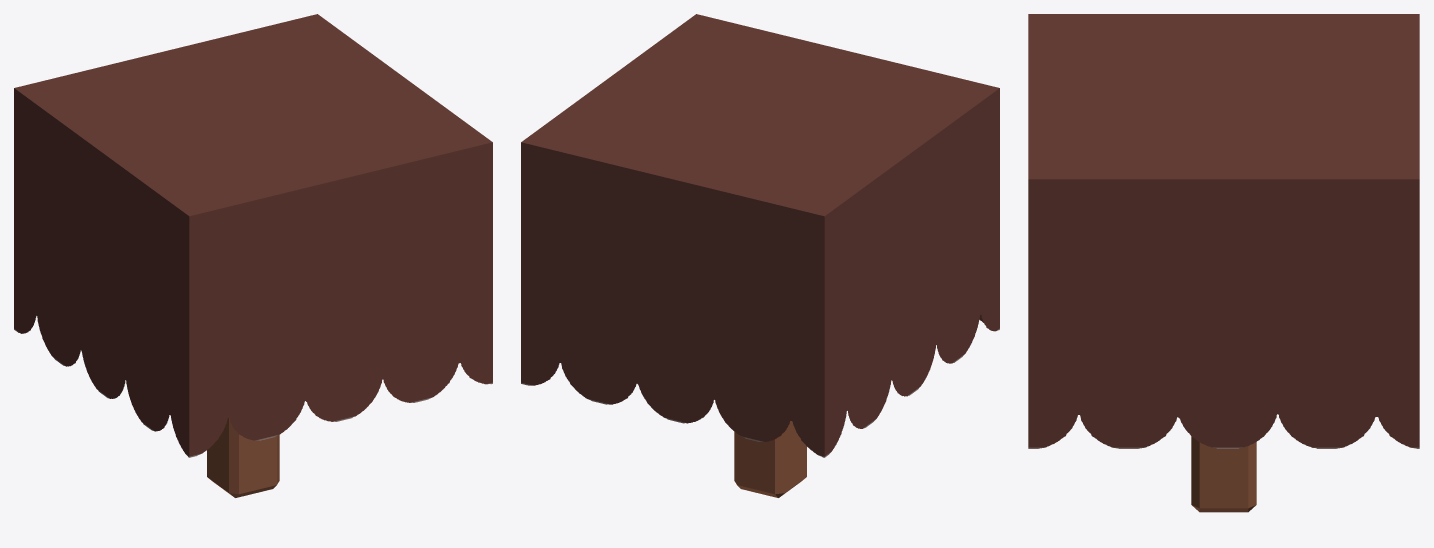
The model's file is Bush 2.fbx.
3 views of the same model, side by side, from view 1: azimuth 30°, elevation 25°; view 2: azimuth 150°, elevation 25°; view 3: azimuth 270°, elevation 25° (orthographic). The views are drawn at different scales.
Visible parts, largest first — view 1: Bush_1, Trunk; view 2: Bush_1, Trunk; view 3: Bush_1, Trunk.
Part boxes in pixels (x1,y1,x2,y2): Bush_1: (14,14,492,457); Trunk: (207,418,279,497); Bush_1: (521,14,999,457); Trunk: (734,421,806,497); Bush_1: (1028,14,1419,448); Trunk: (1191,436,1256,512).
Bounding box in the file's own units: 0.6 × 0.695 × 0.6.
